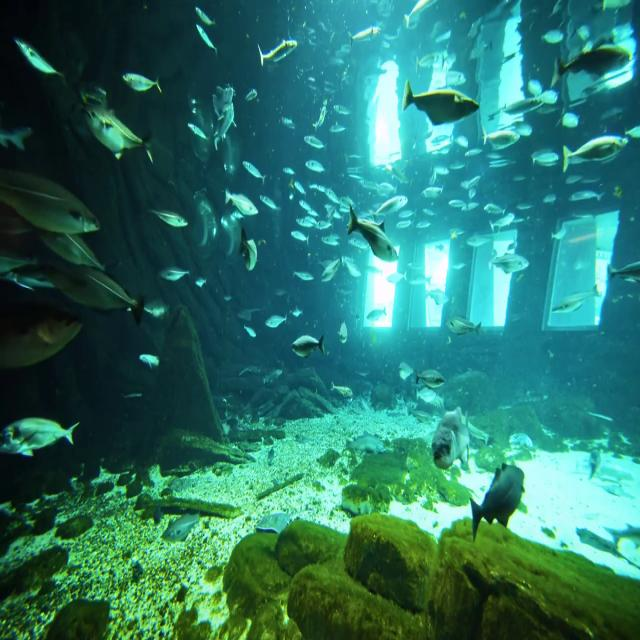fish: (48, 262, 146, 324), (0, 175, 98, 236), (77, 100, 154, 164), (430, 403, 495, 467), (469, 462, 526, 534), (404, 79, 481, 128), (552, 38, 632, 82), (562, 131, 630, 178), (0, 418, 81, 452), (350, 208, 400, 261), (258, 35, 299, 70), (290, 332, 325, 361), (236, 228, 258, 274)
